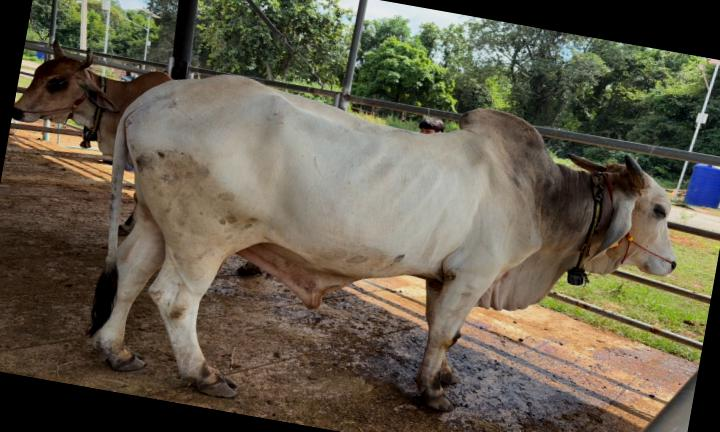Brahman: (89, 75, 676, 411)
